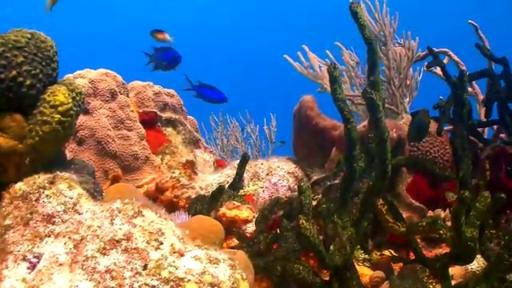Fish: (181, 75, 227, 103), (143, 47, 182, 71), (150, 29, 173, 42), (45, 0, 58, 12), (278, 141, 286, 147)
